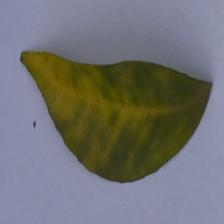greening: (16, 44, 161, 149)
